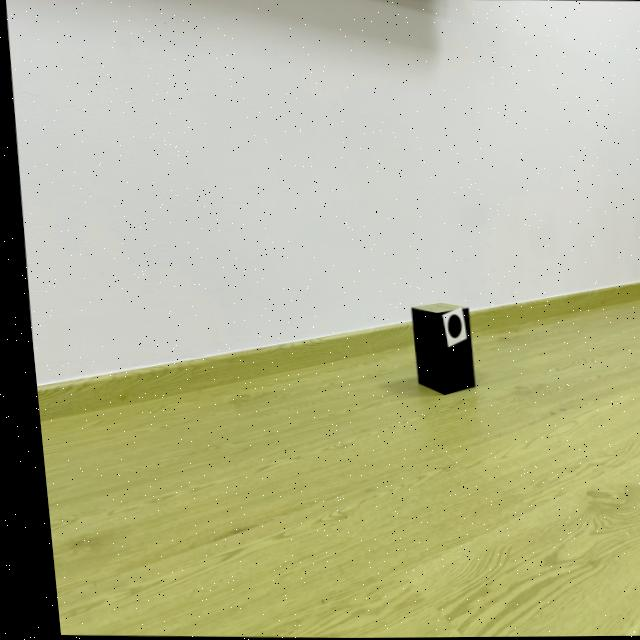CIRCLE: (441, 314, 455, 339)
